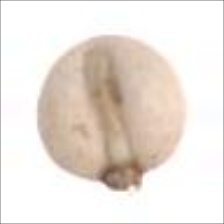L5: (84, 45, 139, 167), (99, 160, 148, 193)
L6: (36, 33, 187, 195)
